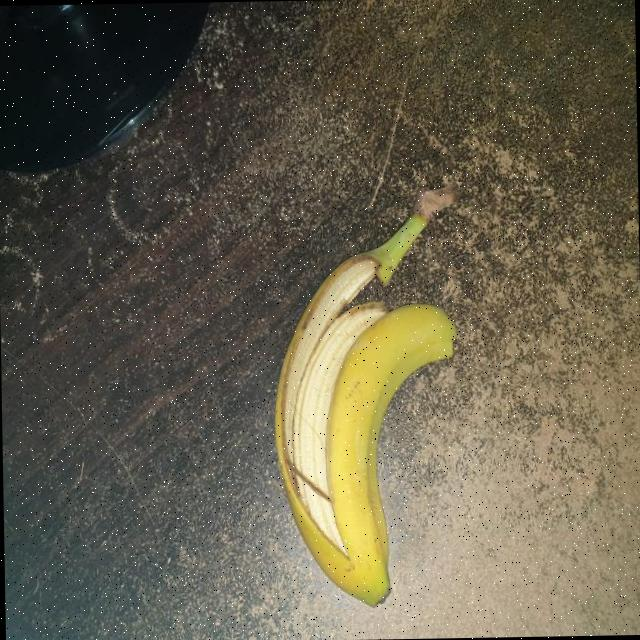banana-peel: (269, 180, 466, 608)
